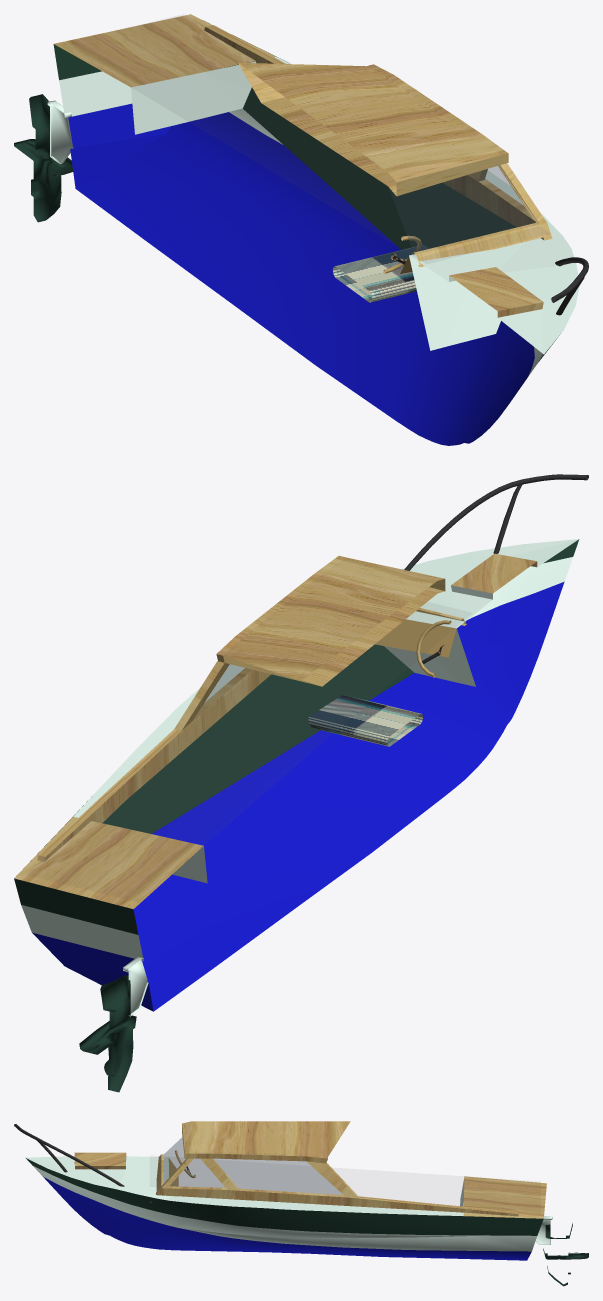
Rendered from left.obj.
3 views of the same model, one above another, from view 1: azimuth 30°, elevation 25°; view 2: azimuth 150°, elevation 25°; view 3: azimuth 270°, elevation 25° (orthographic). The views are drawn at different scales.
Parts seen in each view (by area): view 1: BowRail_Mesh_Metal.020; view 2: BowRail_Mesh_Metal.020; view 3: BowRail_Mesh_Metal.020.
Boxes of the visible parts, <box> form: BowRail_Mesh_Metal.020: <box>14,14,588,445</box>; BowRail_Mesh_Metal.020: <box>14,474,588,1092</box>; BowRail_Mesh_Metal.020: <box>14,1121,588,1286</box>.
Bounding box in the file's own units: 1 × 1.79 × 5.71.
Materials: 10 (4 with a texture image).
